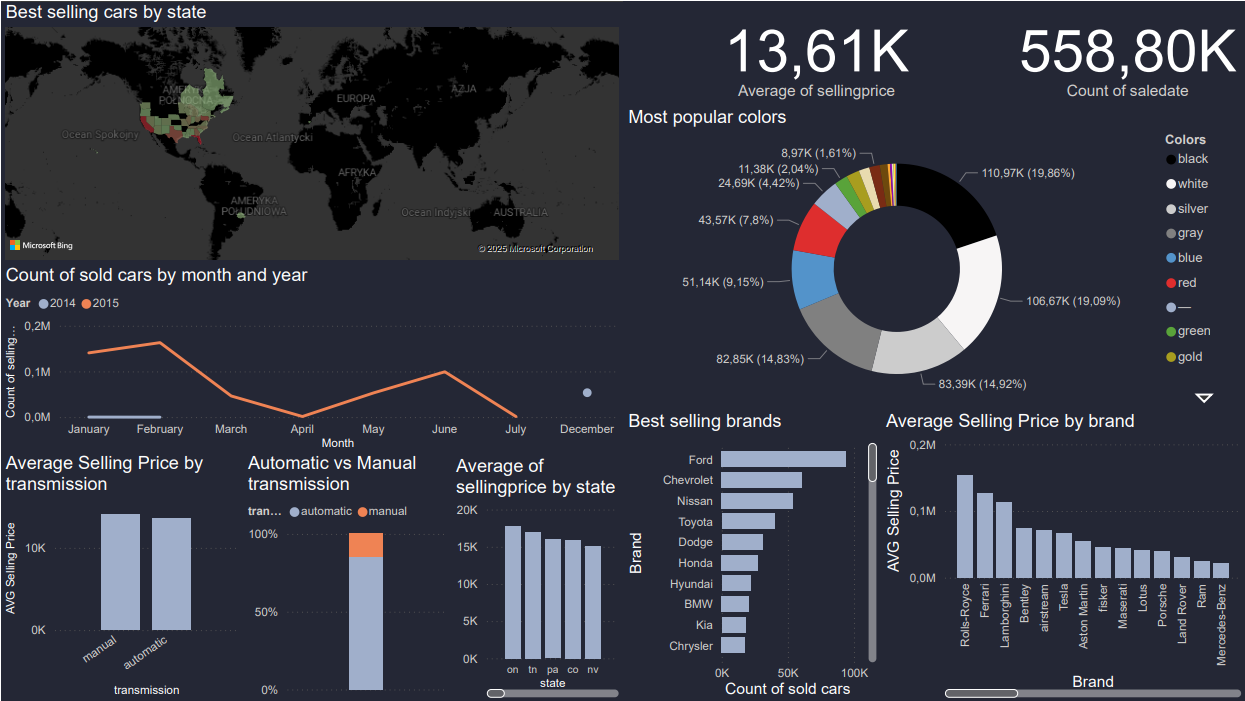

Layout of this report page (visuals, bound fields, positions):
{"tool":"powerbi","page":{"name":"Page 1","canvas":[1280,720],"ordinal":0},"visuals":[{"type":"card","fields":{"Values":["CountNonNull(vehicle_sales.saledate)"]},"box":[1037.2,0,242.8,107.9],"z":0},{"type":"clusteredColumnChart","title":"Average Selling Price by brand","fields":{"Category":["vehicle_sales.make"],"Y":["vehicle_sales.AVG Selling Price"]},"box":[905.3,419.7,374.7,300.8],"z":1000},{"type":"lineChart","title":"Count of sold cars by month and year","fields":{"Category":["vehicle_sales.saledate.Variation.Date Hierarchy.Month"],"Y":["CountNonNull(vehicle_sales.sellingprice)"],"Series":["vehicle_sales.saledate.Variation.Date Hierarchy.Year"]},"box":[0,269.8,640.5,195.8],"z":2000},{"type":"donutChart","title":"Most popular colors","fields":{"Y":["CountNonNull(vehicle_sales.color)"],"Category":["vehicle_sales.color"]},"box":[640.5,107.9,639.5,311.8],"z":3000},{"type":"clusteredColumnChart","title":"Average Selling Price by transmission","fields":{"Category":["vehicle_sales.transmission"],"Y":["vehicle_sales.AVG Selling Price"]},"box":[0,462.6,248.8,257.8],"z":4000},{"type":"hundredPercentStackedColumnChart","title":"Automatic vs Manual  transmission","fields":{"Y":["CountNonNull(vehicle_sales.saledate)"],"Series":["vehicle_sales.transmission"]},"box":[248.8,462.6,213.8,257.8],"z":5000},{"type":"card","fields":{"Values":["Avg(vehicle_sales.sellingprice)"]},"box":[640.5,0,396.7,107.9],"z":6000},{"type":"filledMap","title":"Best selling cars by state","fields":{"Category":["vehicle_sales.state"]},"box":[0,0,640.5,269.8],"z":7000},{"type":"barChart","title":"Best selling brands","fields":{"Y":["CountNonNull(vehicle_sales.saledate)"],"Category":["vehicle_sales.make"]},"box":[640.5,419.7,264.8,300.8],"z":8000},{"type":"clusteredColumnChart","fields":{"Category":["vehicle_sales.state"],"Y":["Avg(vehicle_sales.sellingprice)"]},"box":[462.6,465.6,177.9,254.8],"z":9000}]}

Visuals, with their boxes in screenshot pixels (x1, y1, x2, y2), scaled from the page's 1280x720 canvas onto the 1245x701 screenshot:
card - CountNonNull(vehicle_sales.saledate): 1009 0 1244 105
"Average Selling Price by brand" clusteredColumnChart: 881 409 1244 700
"Count of sold cars by month and year" lineChart: 0 263 623 453
"Most popular colors" donutChart: 623 105 1244 409
"Average Selling Price by transmission" clusteredColumnChart: 0 450 242 700
"Automatic vs Manual  transmission" hundredPercentStackedColumnChart: 242 450 450 700
card - Avg(vehicle_sales.sellingprice): 623 0 1009 105
"Best selling cars by state" filledMap: 0 0 623 263
"Best selling brands" barChart: 623 409 881 700
clusteredColumnChart - vehicle_sales.state x Avg(vehicle_sales.sellingprice): 450 453 623 700
